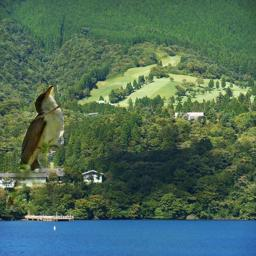Cuckoo: (6, 85, 64, 210)
